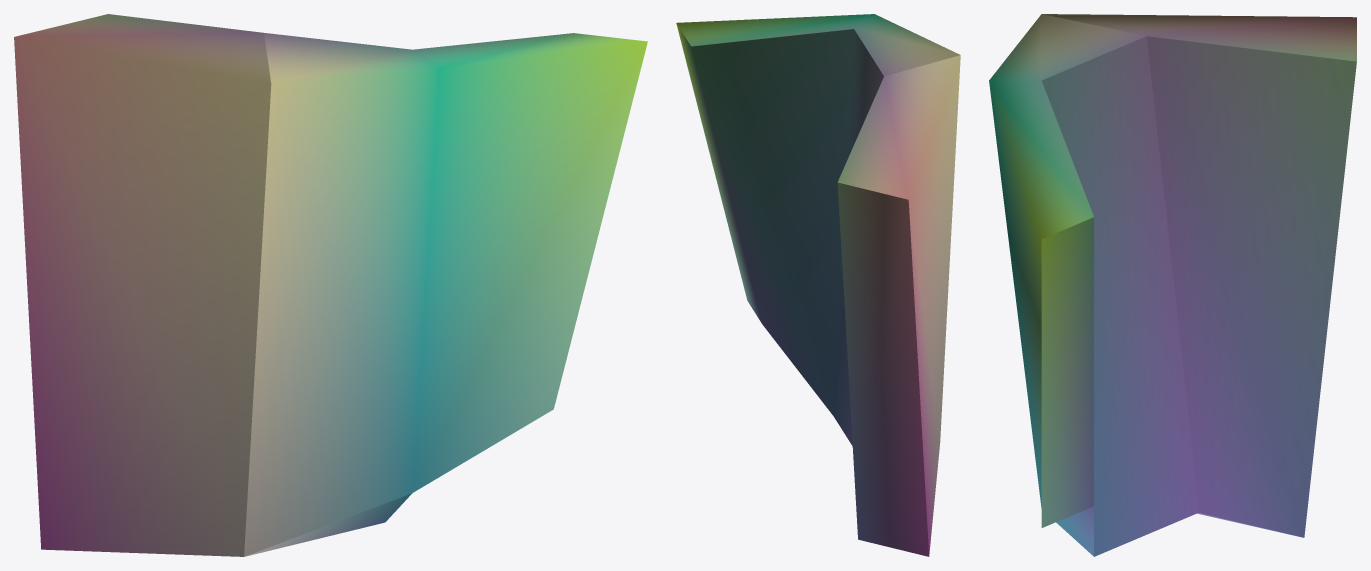
The picture shows the model from 3 angles, left to right: view 1: azimuth 30°, elevation 25°; view 2: azimuth 150°, elevation 25°; view 3: azimuth 270°, elevation 25°; orthographic projection. The views are drawn at different scales.
Visible parts, largest first — view 1: part; view 2: part; view 3: part.
Boxes of the visible parts, x1=… form: part: x1=14, y1=14, x2=647, y2=556; part: x1=676, y1=14, x2=960, y2=556; part: x1=989, y1=14, x2=1356, y2=556.
Bounding box in the file's own units: 10 × 11 × 7.
